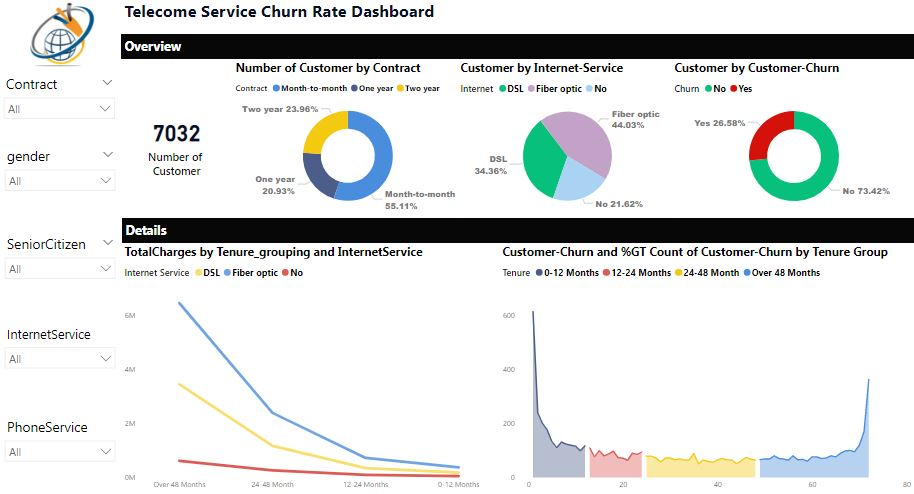

The dashboard page shown, as its layout file describes it:
{"tool":"powerbi","page":{"name":"Page 1","canvas":[1350,735],"ordinal":0},"visuals":[{"type":"textbox","box":[181.9,0,1167.8,55.7],"z":0},{"type":"image","box":[0,0,182.5,110.7],"z":1000},{"type":"slicer","fields":{"Values":["Telco-Customer-Churn.Contract"]},"box":[0,110.7,182.5,106.3],"z":2000},{"type":"slicer","fields":{"Values":["Telco-Customer-Churn.gender"]},"box":[1.5,215.7,181.9,129.1],"z":3000},{"type":"slicer","fields":{"Values":["Telco-Customer-Churn.SeniorCitizen"]},"box":[1.5,344.8,181.9,133.5],"z":4000},{"type":"slicer","fields":{"Values":["Telco-Customer-Churn.InternetService"]},"box":[1.5,478.3,181.9,135],"z":5000},{"type":"slicer","fields":{"Values":["Telco-Customer-Churn.PhoneService"]},"box":[1.5,613.2,181.9,121.8],"z":6000},{"type":"textbox","box":[181.9,55.7,1167.8,36.7],"z":7000},{"type":"card","title":"Number of Customers","fields":{"Values":["Telco-Customer-Churn.Number of Customer"]},"box":[181.9,92.4,162.8,233.3],"z":8000},{"type":"donutChart","fields":{"Y":["Telco-Customer-Churn.Number of Customer"],"Series":["Telco-Customer-Churn.Contract"]},"box":[344.8,92.4,340.4,233.3],"z":9000},{"type":"pieChart","title":"Customer by Internet-Service","fields":{"Y":["Telco-Customer-Churn.Number of Customer"],"Series":["Telco-Customer-Churn.InternetService"]},"box":[674.9,92.4,324.2,233.3],"z":10000},{"type":"donutChart","title":"Customer by Customer-Churn","fields":{"Y":["Telco-Customer-Churn.Number of Customer"],"Series":["Telco-Customer-Churn.Customer-Churn"]},"box":[988.8,92.4,360.9,233.3],"z":11000},{"type":"textbox","box":[183,454,162,150],"z":12000},{"type":"textbox","box":[183.4,325.7,1164.9,36.7],"z":13000},{"type":"lineChart","title":"TotalCharges by Tenure_grouping and InternetService","fields":{"Category":["Telco-Customer-Churn.Tenure_grouping1"],"Y":["Sum(Telco-Customer-Churn.TotalCharges)"],"Series":["Telco-Customer-Churn.InternetService"]},"box":[181.9,362.4,554.6,372.6],"z":14000},{"type":"stackedAreaChart","title":"Customer-Churn and %GT Count of Customer-Churn by Tenure Group ","fields":{"Category":["Telco-Customer-Churn.tenure"],"Y":["CountNonNull(Telco-Customer-Churn.Customer-Churn)"],"Series":["Telco-Customer-Churn.Tenure_grouping1"]},"box":[736.5,362.4,613.2,372.6],"z":15000}]}

Visuals, with their boxes in screenshot pixels (x1, y1, x2, y2):
textbox: BBox(147, 0, 913, 31)
image: BBox(21, 0, 147, 69)
slicer - Telco-Customer-Churn.Contract: BBox(21, 69, 147, 142)
slicer - Telco-Customer-Churn.gender: BBox(22, 141, 148, 230)
slicer - Telco-Customer-Churn.SeniorCitizen: BBox(22, 230, 148, 322)
slicer - Telco-Customer-Churn.InternetService: BBox(22, 322, 148, 415)
slicer - Telco-Customer-Churn.PhoneService: BBox(22, 415, 148, 493)
textbox: BBox(147, 31, 913, 56)
"Number of Customers" card: BBox(147, 56, 259, 217)
donutChart - Telco-Customer-Churn.Number of Customer x Telco-Customer-Churn.Contract: BBox(259, 56, 493, 217)
"Customer by Internet-Service" pieChart: BBox(486, 56, 709, 217)
"Customer by Customer-Churn" donutChart: BBox(702, 56, 913, 217)
textbox: BBox(147, 306, 259, 409)
textbox: BBox(148, 217, 913, 242)
"TotalCharges by Tenure_grouping and InternetService" lineChart: BBox(147, 242, 529, 493)
"Customer-Churn and %GT Count of Customer-Churn by Tenure Group " stackedAreaChart: BBox(529, 242, 913, 493)
